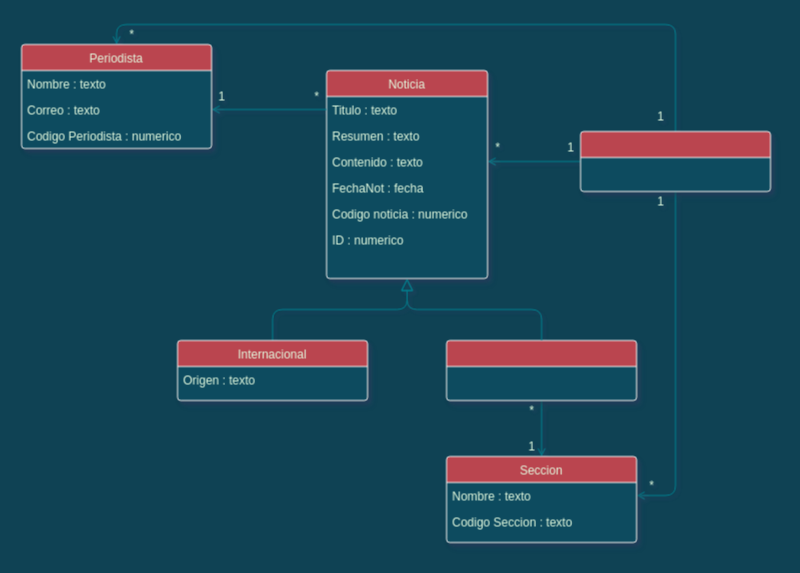
The diagram is 800 pixels wide and 573 high, and some of its shapes have lost their labels. Here are the shapes that lost their labels. From the top down, the centre of each, then its label:
At (676,162): "Biblioteca".
At (542,372): "Nacional".
